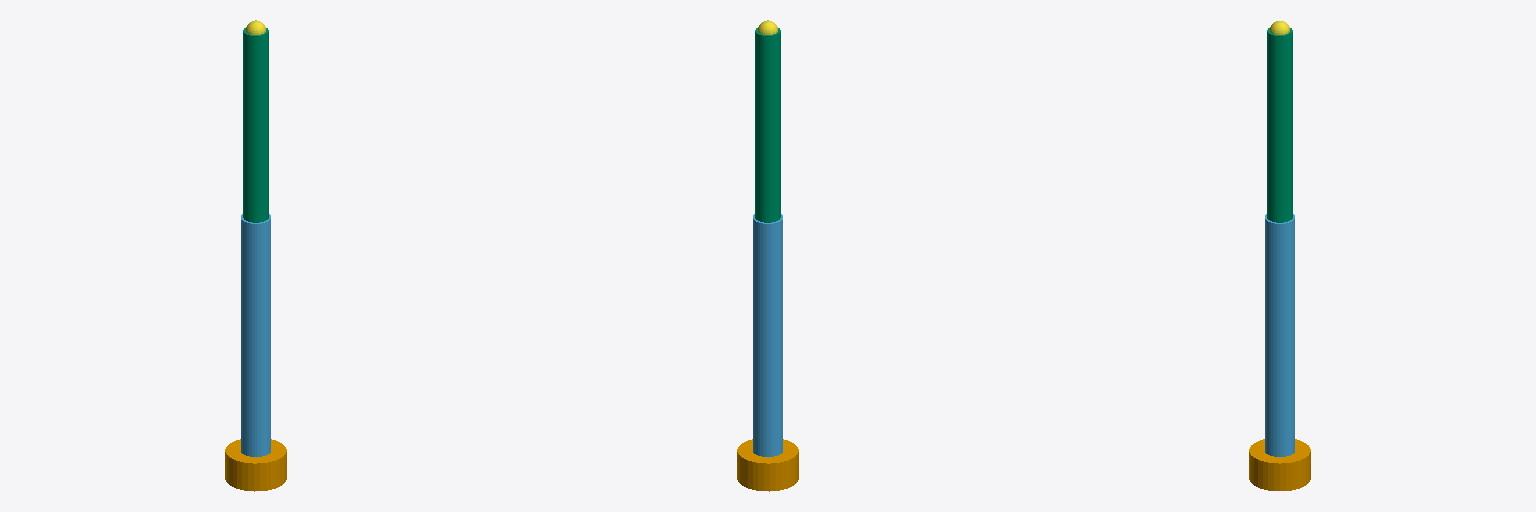
robot.urdf — arm2:
<?xml version="1.0"?>
<!--
  arm2 - the textbook planar two-link arm, the smallest robot whose dynamics
  still has every term of the manipulator equation in it.

  Both joints rotate about y, so the whole arm stays in the x-z plane and
  gravity (-z) does real work on it.  Each link is a uniform rod of length L
  hanging along its own z axis, so its centre of mass sits at L/2 and its
  inertia about the transverse axes is m L^2 / 12.

  Why a rod and not a point mass?  A point mass would make the inertia terms
  vanish and hide half of what RNEA computes.  The rod keeps the arithmetic
  hand-checkable while still exercising ixx, iyy and izz.

  Units: metres, radians, kilograms.
-->
<robot name="arm2">

  <link name="base_link">
    <inertial>
      <origin xyz="0 0 0"/>
      <mass value="0.0"/>
      <inertia ixx="0" ixy="0" ixz="0" iyy="0" iyz="0" izz="0"/>
    </inertial>
    <visual>
      <origin xyz="0 0 -0.03"/>
      <geometry><cylinder radius="0.06" length="0.06"/></geometry>
    </visual>
  </link>

  <!-- Link 1: uniform rod, m = 2 kg, L = 0.5 m, along +z of its own frame. -->
  <link name="link1">
    <inertial>
      <origin xyz="0 0 0.25"/>
      <mass value="2.0"/>
      <inertia ixx="0.0416666666666667" ixy="0" ixz="0"
               iyy="0.0416666666666667" iyz="0" izz="0.0009"/>
    </inertial>
    <visual>
      <origin xyz="0 0 0.25"/>
      <geometry><cylinder radius="0.03" length="0.50"/></geometry>
    </visual>
  </link>

  <!-- Link 2: uniform rod, m = 1 kg, L = 0.4 m. -->
  <link name="link2">
    <inertial>
      <origin xyz="0 0 0.20"/>
      <mass value="1.0"/>
      <inertia ixx="0.0133333333333333" ixy="0" ixz="0"
               iyy="0.0133333333333333" iyz="0" izz="0.000225"/>
    </inertial>
    <visual>
      <origin xyz="0 0 0.20"/>
      <geometry><cylinder radius="0.025" length="0.40"/></geometry>
    </visual>
  </link>

  <link name="tool0">
    <inertial>
      <origin xyz="0 0 0"/>
      <mass value="0.001"/>
      <inertia ixx="1e-6" ixy="0" ixz="0" iyy="1e-6" iyz="0" izz="1e-6"/>
    </inertial>
    <visual>
      <origin xyz="0 0 0"/>
      <geometry><sphere radius="0.02"/></geometry>
    </visual>
  </link>

  <joint name="shoulder" type="revolute">
    <parent link="base_link"/>
    <child link="link1"/>
    <origin xyz="0 0 0" rpy="0 0 0"/>
    <axis xyz="0 1 0"/>
    <limit lower="-3.14" upper="3.14" effort="60" velocity="4.0"/>
  </joint>

  <joint name="elbow" type="revolute">
    <parent link="link1"/>
    <child link="link2"/>
    <origin xyz="0 0 0.50" rpy="0 0 0"/>
    <axis xyz="0 1 0"/>
    <limit lower="-3.00" upper="3.00" effort="30" velocity="4.0"/>
  </joint>

  <joint name="tool_fixed" type="fixed">
    <parent link="link2"/>
    <child link="tool0"/>
    <origin xyz="0 0 0.40" rpy="0 0 0"/>
  </joint>

</robot>

--- What the picture shows (computed from the rendered views, not written in the file) ---
3 views of the same robot in one strip: view 1: azimuth 30°, elevation 25°; view 2: azimuth 150°, elevation 25°; view 3: azimuth 270°, elevation 25° (orthographic).
Robot: arm2 — 4 links, 3 joints (2 revolute, 1 fixed); root link base_link; default pose: every joint at zero.
Links seen in each view (by area): view 1: link1, link2, base_link; view 2: link1, link2, base_link; view 3: link1, link2, base_link.
Boxes of the visible links, box(x1,y1,x2,y2) form: link1: box(241, 214, 270, 456); link2: box(243, 28, 268, 222); base_link: box(225, 439, 286, 491); link1: box(753, 214, 782, 456); link2: box(755, 28, 780, 222); base_link: box(737, 439, 798, 491); link1: box(1265, 214, 1294, 456); link2: box(1267, 28, 1292, 222); base_link: box(1249, 439, 1310, 490).
Bounding box of the posed robot: 0.12 × 0.12 × 0.98 m (x, y, z).
Geometry: primitives only (box / cylinder / sphere), no mesh files.
